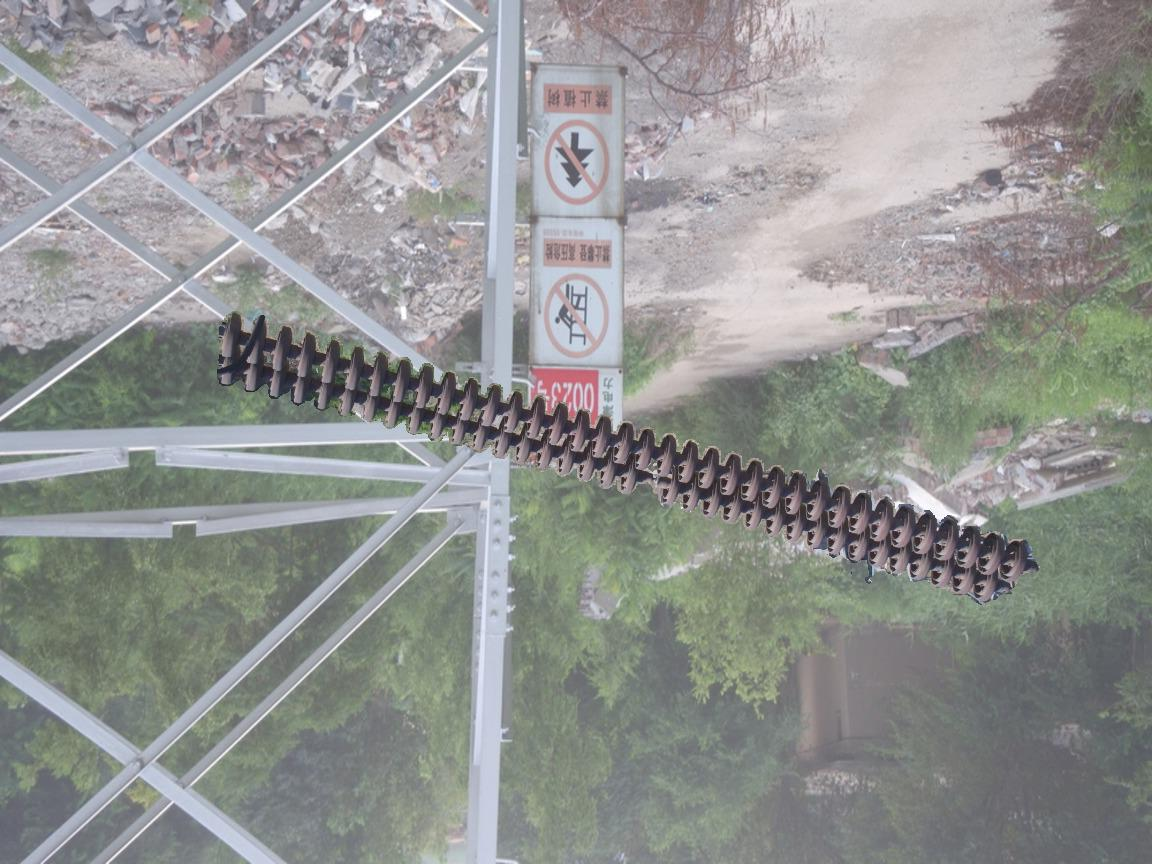insulator: (214, 304, 1044, 608)
insulator_stringdrop: (614, 463, 680, 510)
